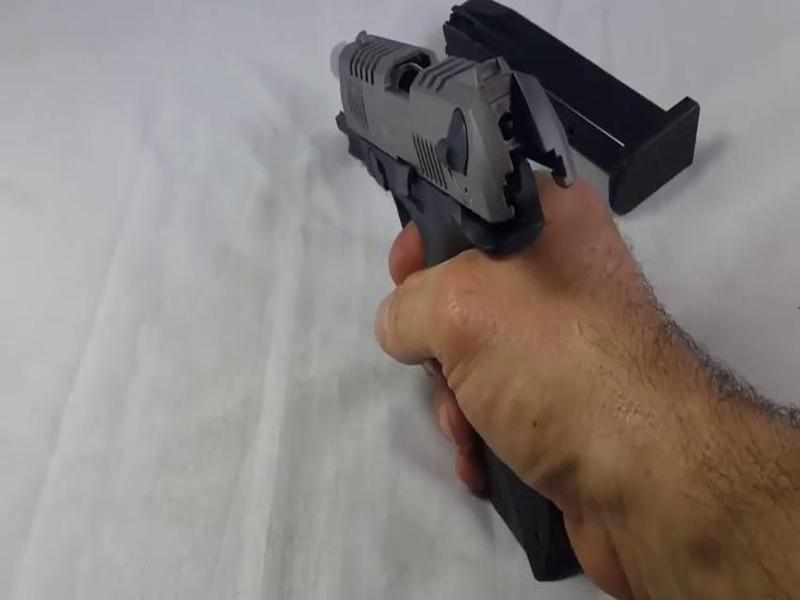Pistola: (302, 28, 631, 581)
